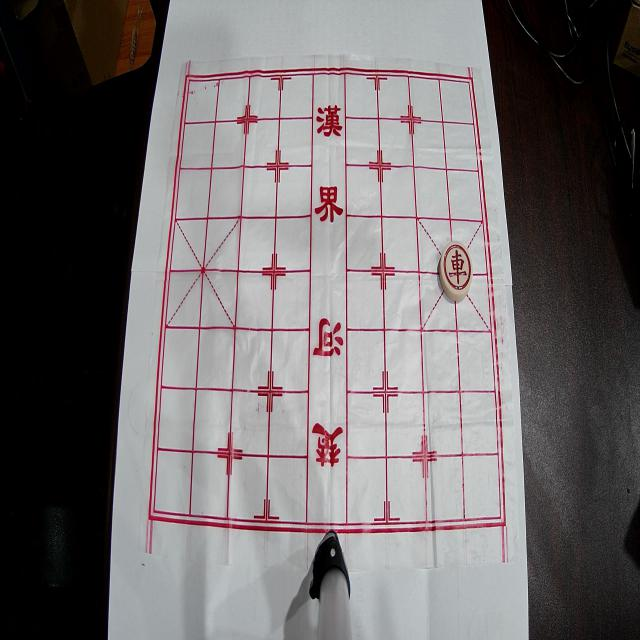red-chariot: (439, 241, 473, 301)
